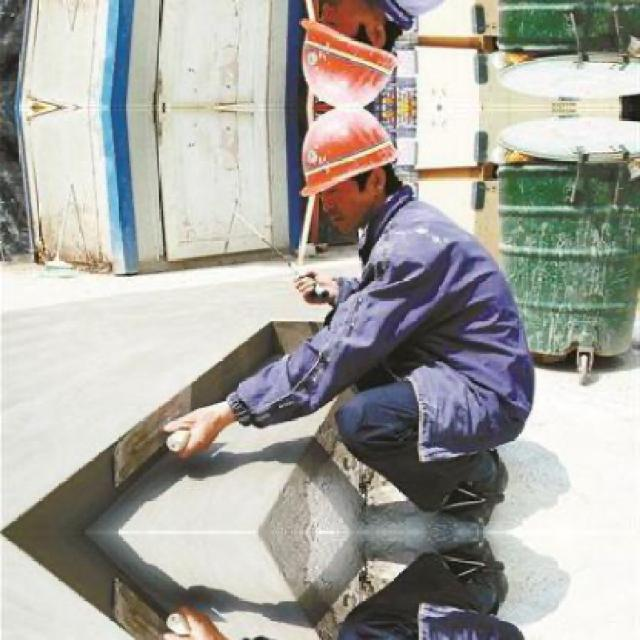helmet: (294, 107, 404, 230), (292, 0, 405, 106)
